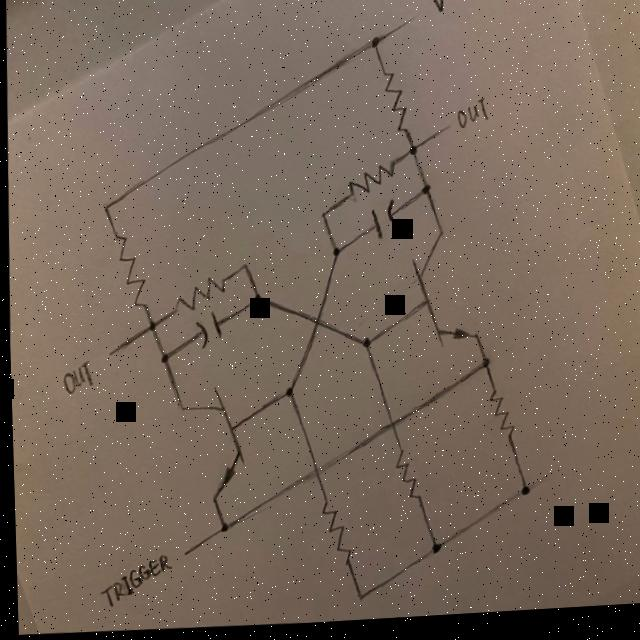capacitor: (365, 198, 408, 247), (188, 313, 228, 351)
crossover: (301, 309, 327, 338), (303, 459, 324, 487), (377, 414, 400, 439)
junction: (471, 355, 499, 382), (354, 331, 378, 362), (418, 538, 443, 563), (212, 515, 232, 542), (277, 384, 299, 408), (345, 589, 368, 611), (416, 182, 436, 206), (324, 241, 343, 266), (153, 348, 172, 372), (511, 481, 527, 508), (368, 33, 384, 58), (246, 292, 265, 311), (404, 142, 420, 164), (140, 317, 158, 335), (237, 259, 252, 280), (314, 206, 328, 227), (98, 198, 111, 218)
resistor: (107, 231, 148, 312), (313, 500, 352, 572), (378, 71, 412, 139), (167, 278, 231, 312), (337, 164, 401, 197), (389, 449, 422, 510), (483, 389, 516, 447)
terminal: (171, 538, 208, 563), (531, 473, 557, 498), (101, 341, 130, 361), (399, 14, 424, 35), (429, 122, 453, 143)
text: (93, 554, 167, 605), (452, 101, 492, 134), (57, 360, 91, 392), (429, 0, 446, 18)
transistor: (167, 385, 248, 510), (404, 235, 481, 351)
